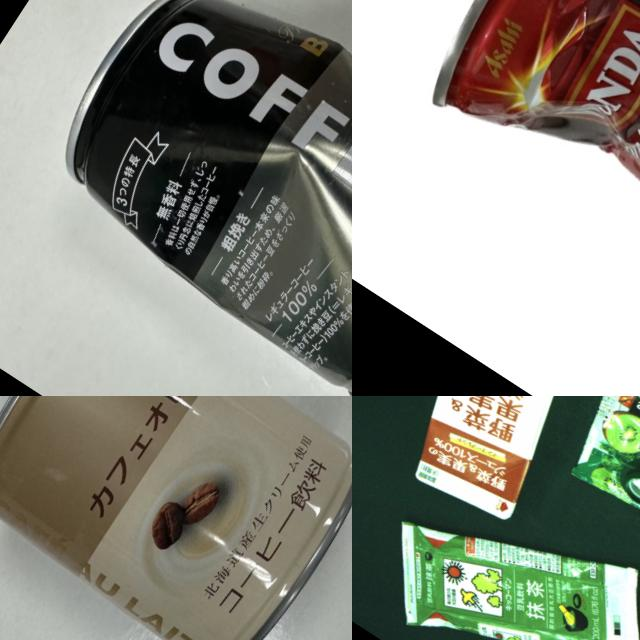Aluminium Foil: (355, 445, 640, 640), (352, 396, 640, 537), (541, 396, 640, 550)
Can: (19, 0, 352, 396), (0, 396, 352, 640), (409, 0, 640, 311)
